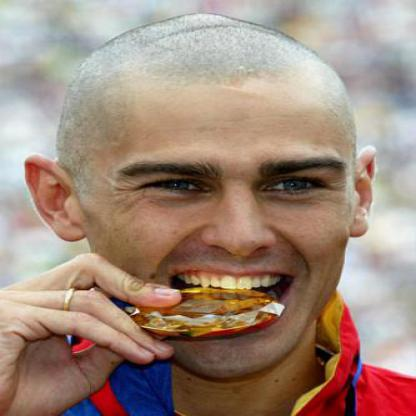face: (83, 22, 356, 378)
